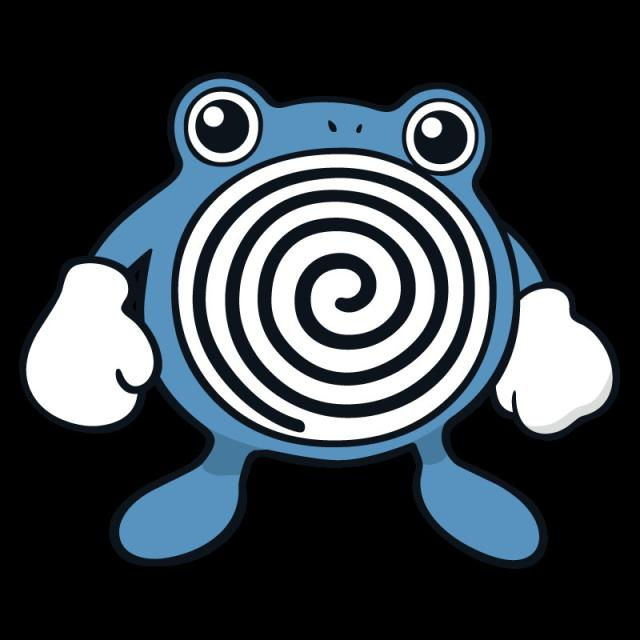Poliwhirl: (33, 77, 587, 541)
